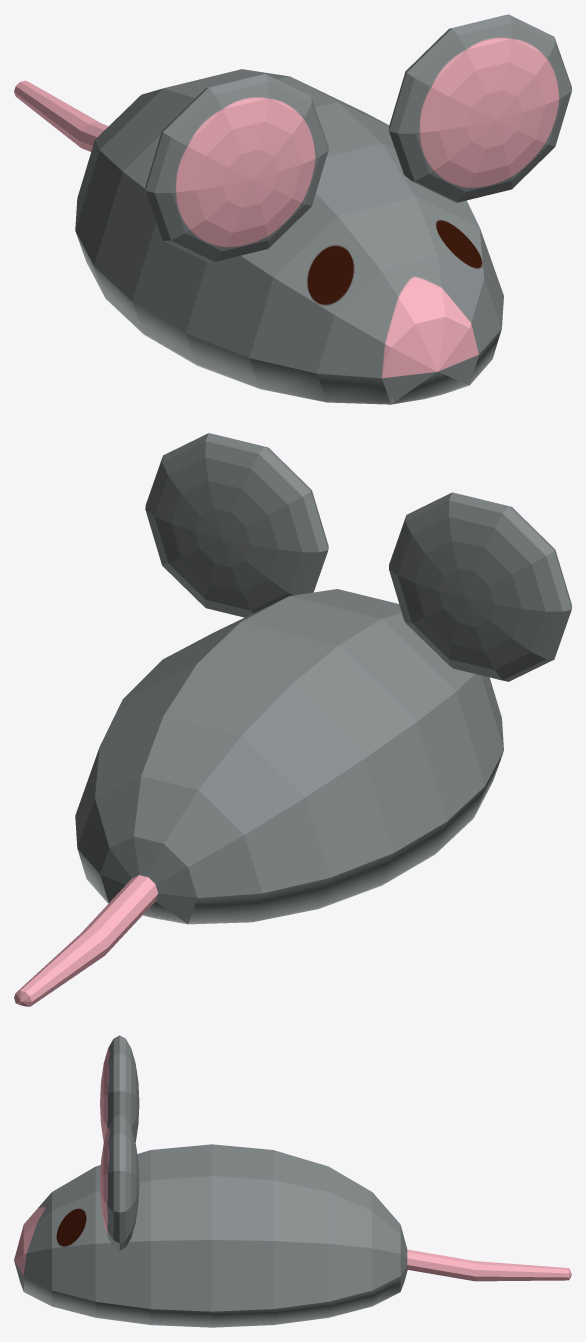
File: Mouse.fbx
3 renders of one model, top to bottom at view 1: azimuth 30°, elevation 25°; view 2: azimuth 150°, elevation 25°; view 3: azimuth 270°, elevation 25°, orthographic. The views are drawn at different scales.
Visible parts, largest first — view 1: pSphere3; view 2: pSphere3; view 3: pSphere3.
Boxes of the visible parts, x1=… form: pSphere3: x1=14, y1=14, x2=571, y2=404; pSphere3: x1=14, y1=433, x2=571, y2=1006; pSphere3: x1=14, y1=1035, x2=571, y2=1327.
Bounding box in the file's own units: 0.8311 × 0.5563 × 1.41.
1 material, 1 textured.
